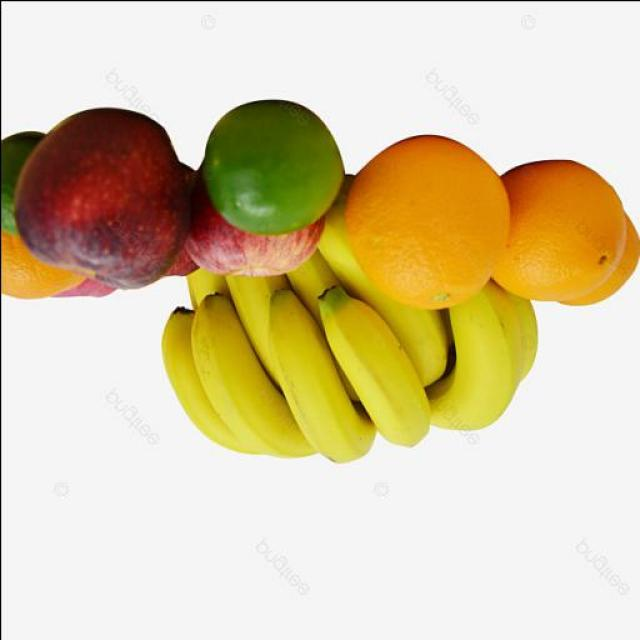Apple: (16, 104, 193, 288), (180, 168, 323, 275)
Banana: (314, 204, 446, 385), (190, 292, 318, 457), (267, 287, 375, 462), (318, 287, 430, 446), (160, 307, 270, 454), (429, 281, 522, 428), (222, 272, 292, 393)
Orange: (344, 133, 508, 307), (492, 159, 625, 299)
